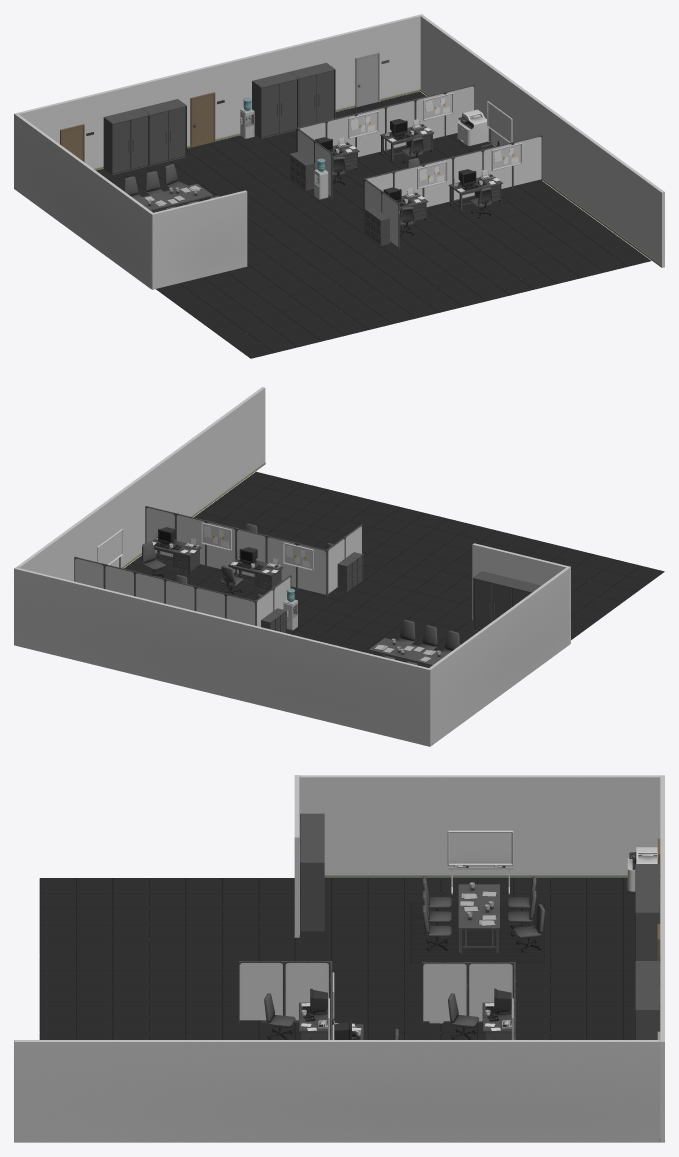
The picture shows the model from 3 angles, top to bottom: view 1: azimuth 30°, elevation 25°; view 2: azimuth 150°, elevation 25°; view 3: azimuth 270°, elevation 25°; orthographic projection. The views are drawn at different scales.
Parts seen in each view (by area): view 1: Tile.001, Wall, Wall.003, Wall.002, Wall.004, Dresser, Dresser.001, Small Wall.002, Small Wall.001, Réunion Desk, Desk.005, Desk.001 (+13 smaller); view 2: Tile.001, Wall, Wall.003, Wall.002, Small Wall.002, Small Wall.001, Wall.004, Dresser.002, Réunion Desk, Desk.002, Desk.003, Small Wall.003 (+3 smaller); view 3: Tile.001, Wall.003, Wall.002, Réunion Desk, Tile, Small Wall.003, Small Wall, Dresser.002, White board, Dresser, Dresser.001, Wall (+7 smaller).
Part boxes in pixels (x1,y1,x2,y2): Tile.001: [96, 91, 651, 358]; Wall: [14, 14, 423, 189]; Wall.003: [420, 15, 664, 267]; Wall.002: [15, 114, 152, 288]; Wall.004: [150, 190, 247, 289]; Dresser: [103, 99, 186, 174]; Dresser.001: [252, 62, 335, 138]; Small Wall.002: [363, 135, 542, 224]; Small Wall.001: [296, 84, 474, 156]; Réunion Desk: [123, 163, 219, 212]; Desk.005: [448, 143, 521, 212]; Desk.001: [380, 92, 453, 161]; Tile.001: [124, 471, 664, 653]; Wall: [14, 567, 432, 746]; Wall.003: [16, 387, 265, 581]; Wall.002: [429, 567, 569, 745]; Small Wall.002: [145, 506, 327, 597]; Small Wall.001: [74, 556, 256, 625]; Wall.004: [472, 543, 570, 644]; Dresser.002: [473, 571, 541, 631]; Réunion Desk: [369, 619, 459, 667]; Desk.002: [151, 522, 231, 574]; Desk.003: [228, 542, 313, 591]; Small Wall.003: [327, 524, 362, 596]; Tile.001: [39, 878, 635, 1039]; Wall.003: [14, 1040, 660, 1142]; Wall.002: [299, 775, 660, 877]; Réunion Desk: [422, 876, 544, 953]; Tile: [410, 902, 544, 963]; Small Wall.003: [238, 961, 330, 1023]; Small Wall: [422, 962, 513, 1024]; Dresser.002: [300, 813, 324, 931]; White board: [447, 830, 513, 894]; Dresser: [635, 864, 659, 960]; Dresser.001: [635, 961, 659, 1039]; Wall: [659, 775, 664, 1142].
Size of the model in its own units: 3397 by 599 by 3506.
